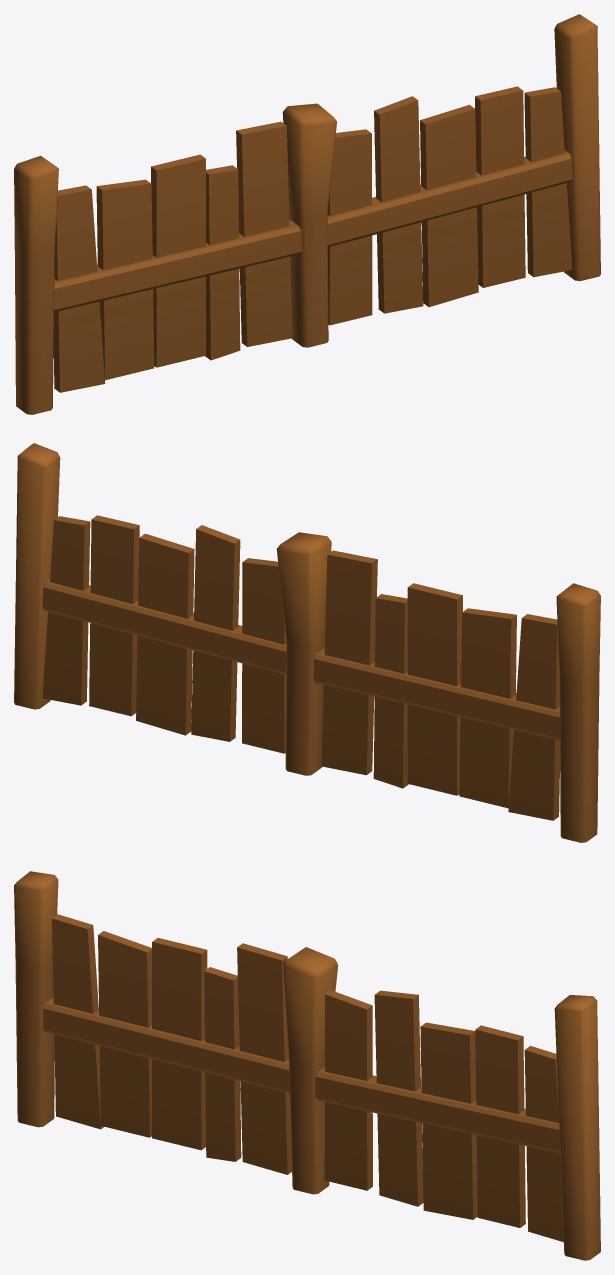
The model's file is WallFence_1_2_E.fbx.
3 views of the same model, one above another, from view 1: azimuth 30°, elevation 25°; view 2: azimuth 150°, elevation 25°; view 3: azimuth 330°, elevation 25° (orthographic).
Parts seen in each view (by area): view 1: WallFence_1_2_E; view 2: WallFence_1_2_E; view 3: WallFence_1_2_E.
Boxes of the visible parts, x1,y1,x2,y2 form: WallFence_1_2_E: [14, 14, 600, 414]; WallFence_1_2_E: [14, 443, 600, 842]; WallFence_1_2_E: [14, 871, 600, 1260].
Size of the model in its own units: 209 by 87.88 by 14.3.
